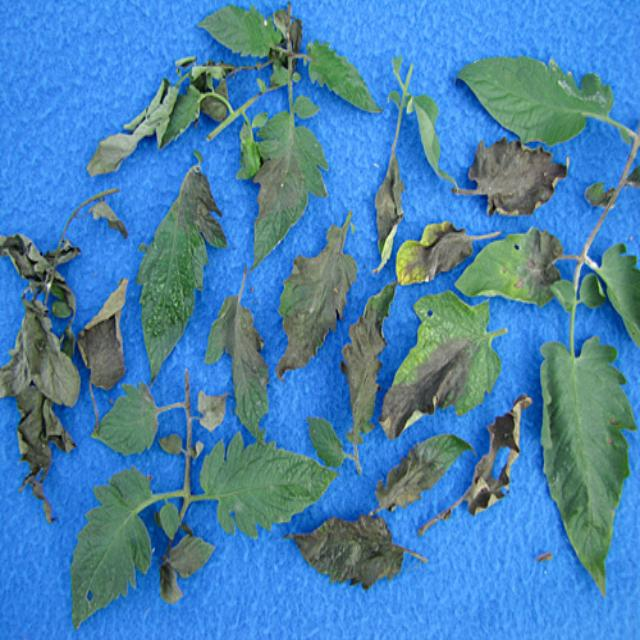Late_blight: (4, 187, 129, 523), (280, 212, 356, 387), (286, 514, 430, 589), (449, 137, 570, 220), (383, 332, 475, 437), (81, 82, 176, 176), (471, 396, 536, 529), (376, 437, 472, 513), (345, 296, 389, 441), (213, 295, 278, 391), (175, 159, 233, 255), (397, 218, 472, 291), (371, 156, 406, 278), (513, 228, 564, 304), (251, 148, 303, 222)
